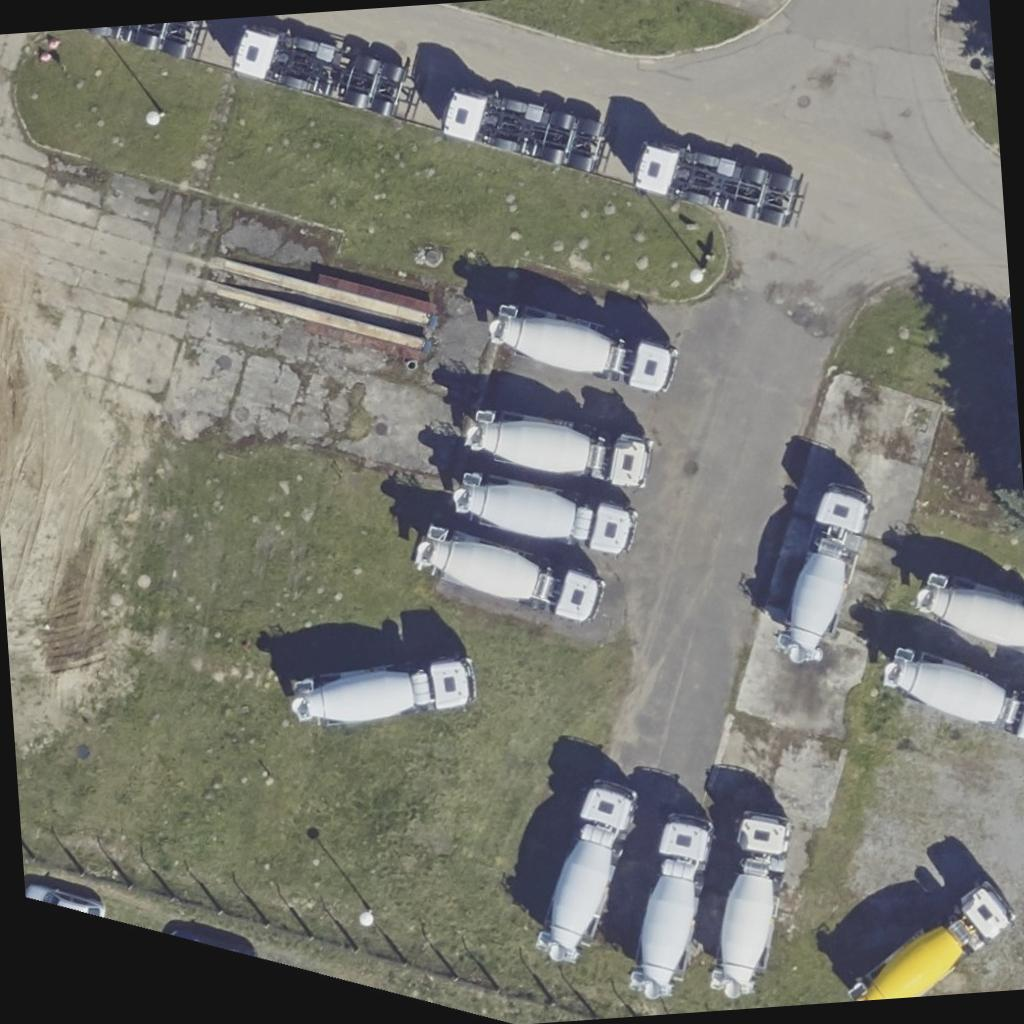betoniarka: (412, 515, 607, 634), (844, 880, 1020, 1001), (765, 481, 880, 664), (698, 810, 804, 1000), (462, 399, 656, 499), (288, 658, 478, 729)
